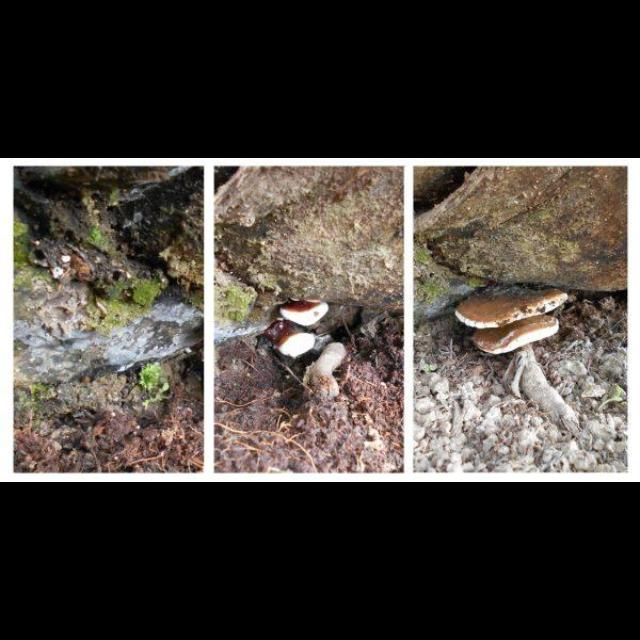ganoderma: (453, 286, 569, 332), (472, 315, 562, 357)
primordium: (273, 328, 317, 361), (280, 300, 328, 329), (51, 267, 68, 283), (61, 255, 74, 265)
